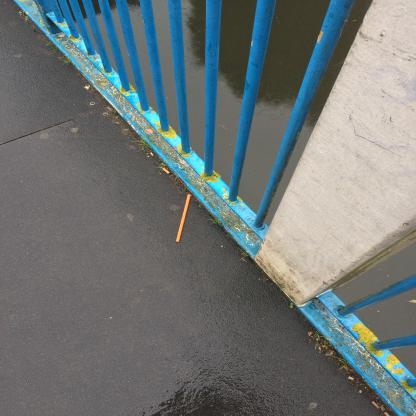plastik: (177, 195, 193, 243)
